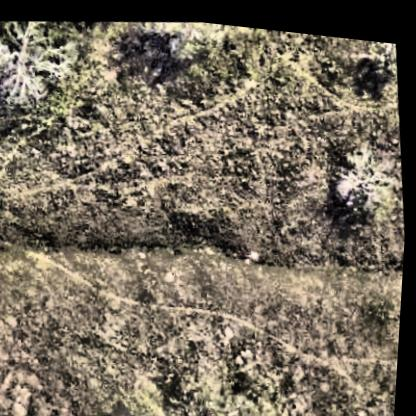tree-top: (0, 13, 79, 119), (323, 127, 408, 223), (145, 13, 236, 66)
